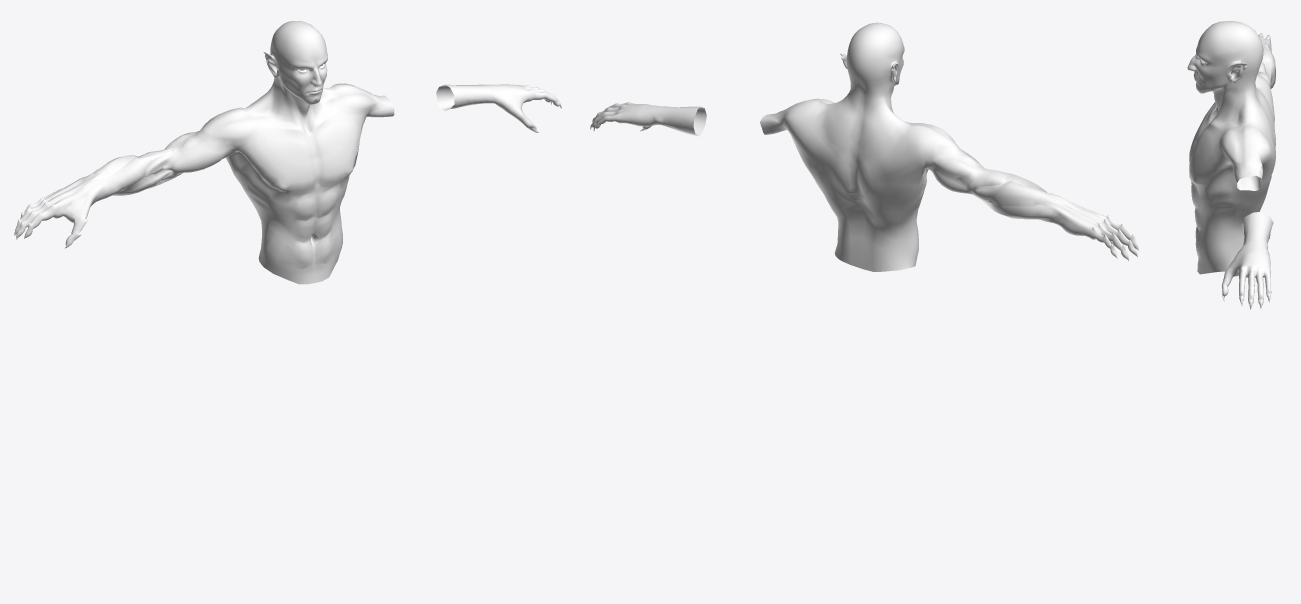
Rendered from alquimista.glb.
The picture shows the model from 3 angles, left to right: view 1: azimuth 30°, elevation 25°; view 2: azimuth 150°, elevation 25°; view 3: azimuth 270°, elevation 25°; orthographic projection.
Parts seen in each view (by area): view 1: Body; view 2: Body; view 3: Body.
Part boxes in pixels (x1,y1,x2,y2): Body: [14, 21, 561, 284]; Body: [590, 22, 1138, 271]; Body: [1187, 21, 1275, 309].
Bounding box in the file's own units: 1.95 × 1.86 × 0.3726.
Materials: 13 (1 with a texture image).
